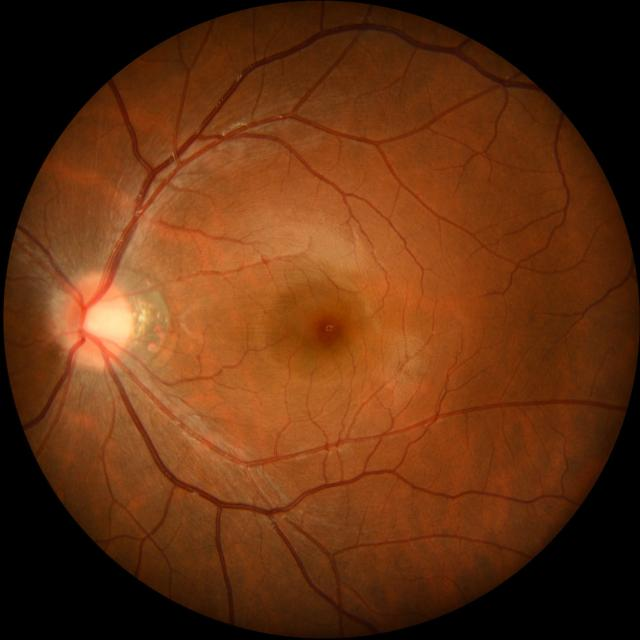OC: (82, 300, 124, 344)
OD: (60, 276, 130, 365)
